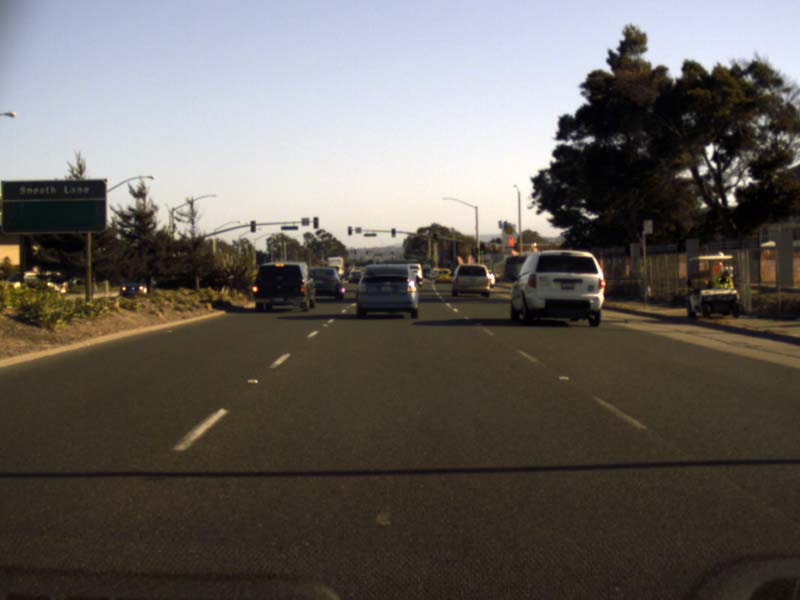Green: (479, 243, 484, 254), (432, 234, 436, 242), (391, 228, 394, 236)
Red: (346, 226, 351, 234)
